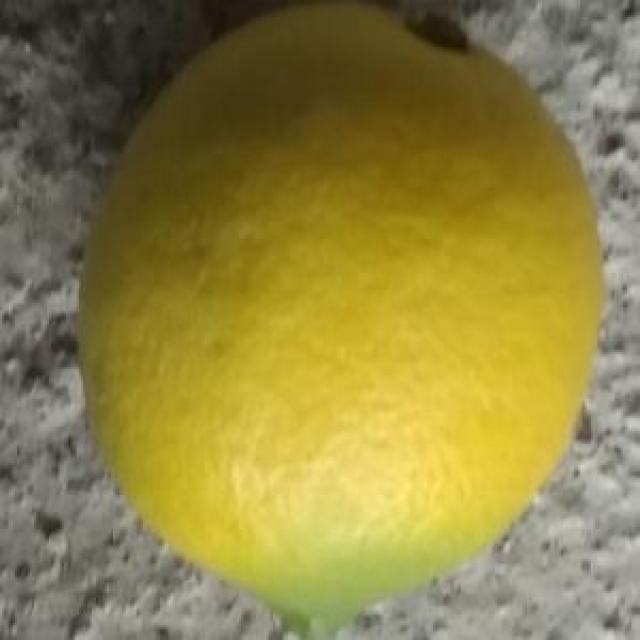lemon: (79, 8, 604, 640)
